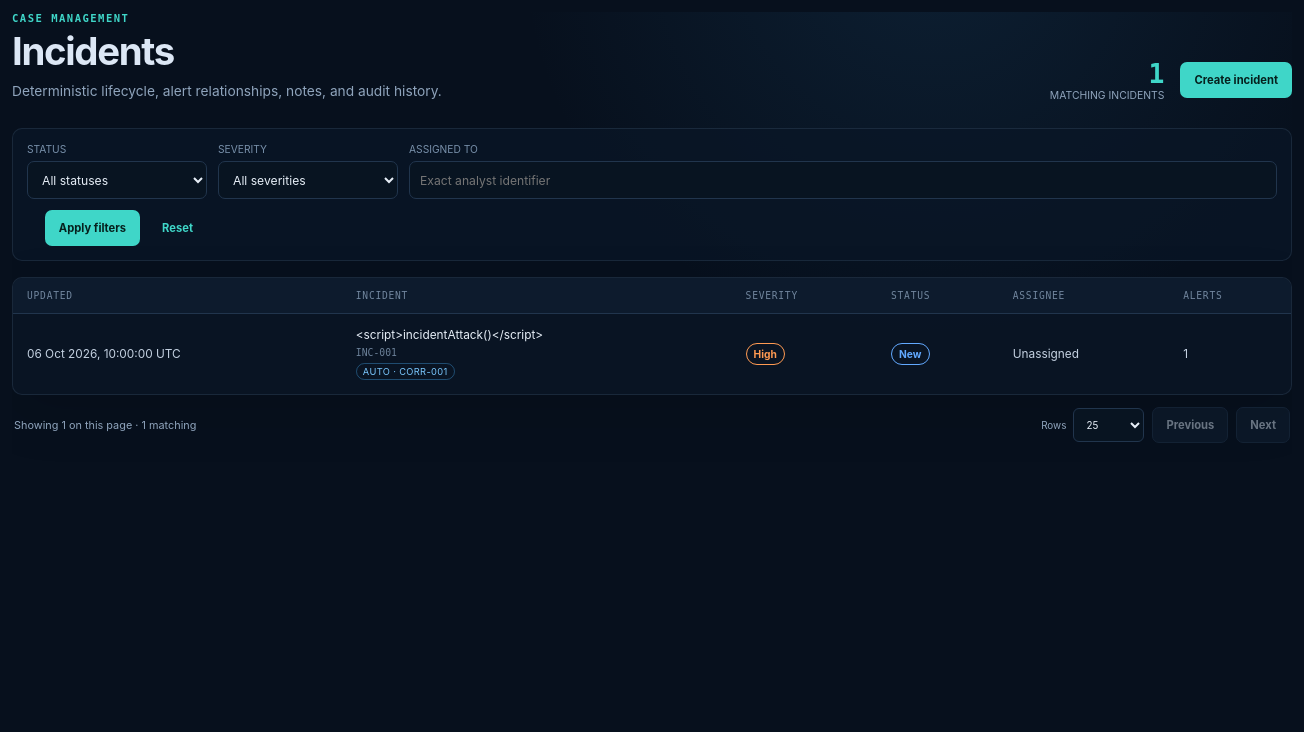
IncidentsPage › renders explainable automatic correlation and chronological alert evidence
This screenshot has width=1304, height=732.
Click the button "<script>incidentAttack()</script>" at (450, 336), box [356,328,543,342]
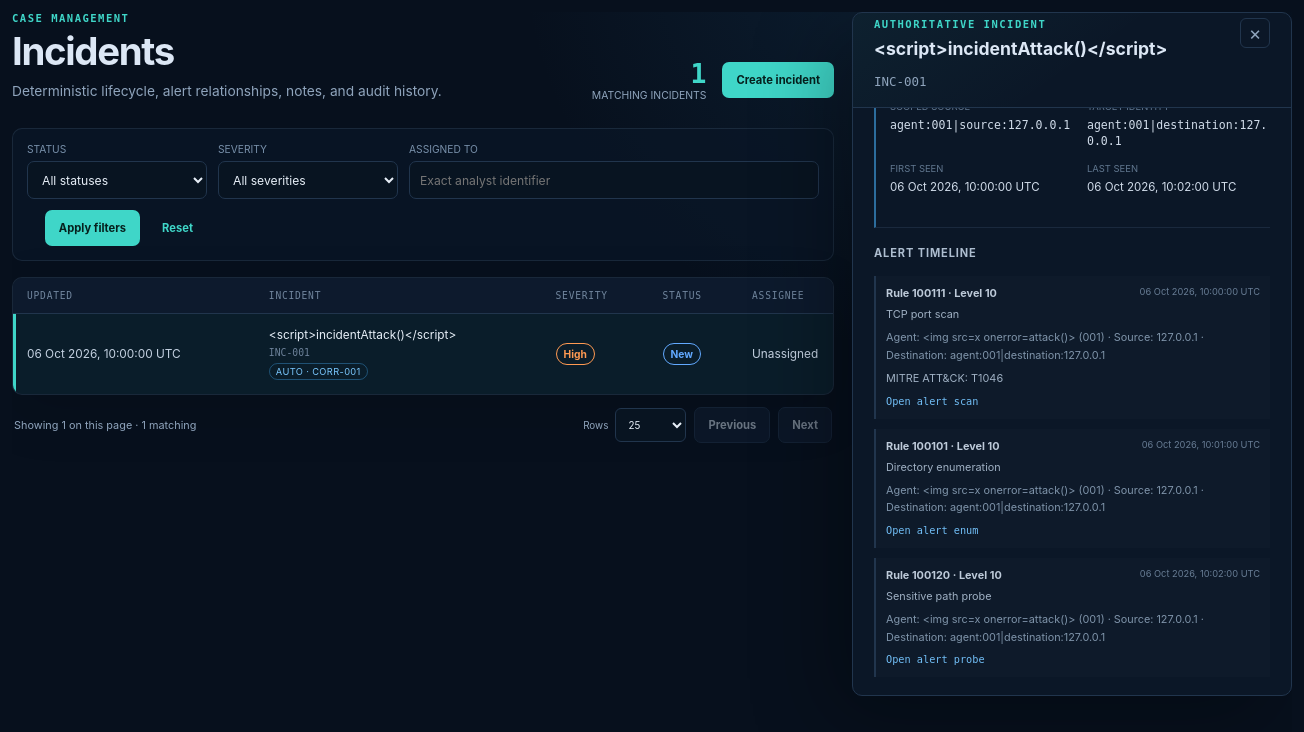
Check: the text "MITRE ATT&CK: T1046" is shown, box [886,371,1003,385]
Check: the button "Open alert scan" is shown, box [886,395,978,407]
